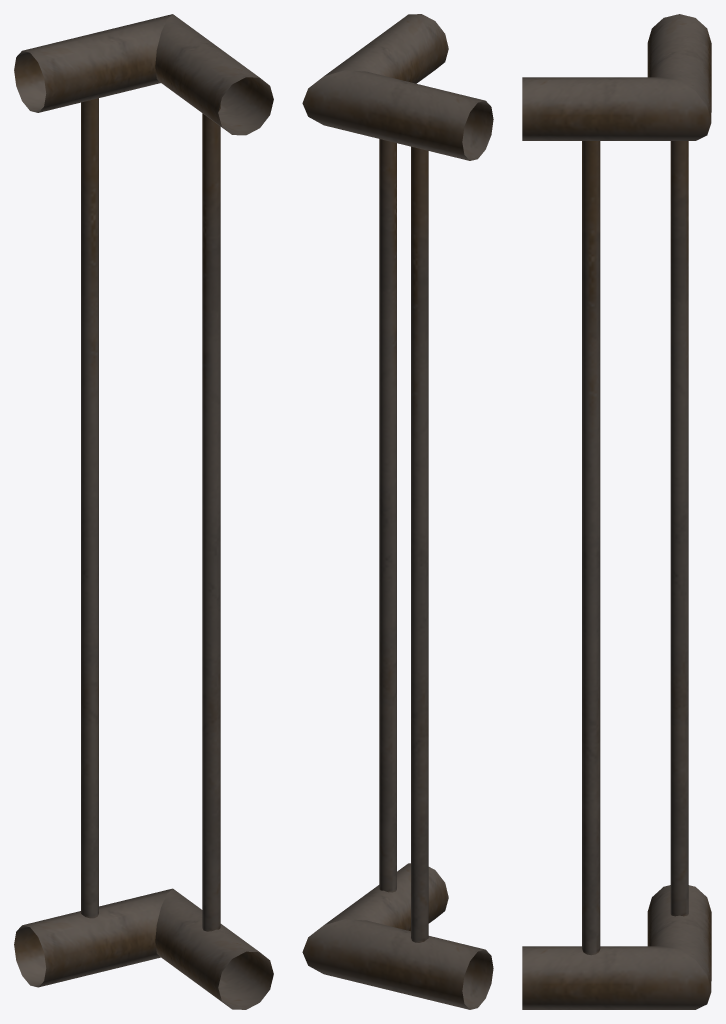
The model's file is SM_RoofFence_Corner_Inner.fbx.
3 renders of one model, left to right at view 1: azimuth 30°, elevation 25°; view 2: azimuth 150°, elevation 25°; view 3: azimuth 270°, elevation 25°, orthographic. The views are drawn at different scales.
Visible parts, largest first — view 1: SM_RoofFence_Corner_Inner_LOD0; view 2: SM_RoofFence_Corner_Inner_LOD0; view 3: SM_RoofFence_Corner_Inner_LOD0.
Boxes of the visible parts, left/top/right/bottom form: SM_RoofFence_Corner_Inner_LOD0: left=14, top=14, right=273, bottom=1009; SM_RoofFence_Corner_Inner_LOD0: left=302, top=14, right=493, bottom=1009; SM_RoofFence_Corner_Inner_LOD0: left=522, top=14, right=711, bottom=1009.
Bounding box in the file's own units: 17.74 × 17.74 × 96.
Materials: 1 (1 with a texture image).
